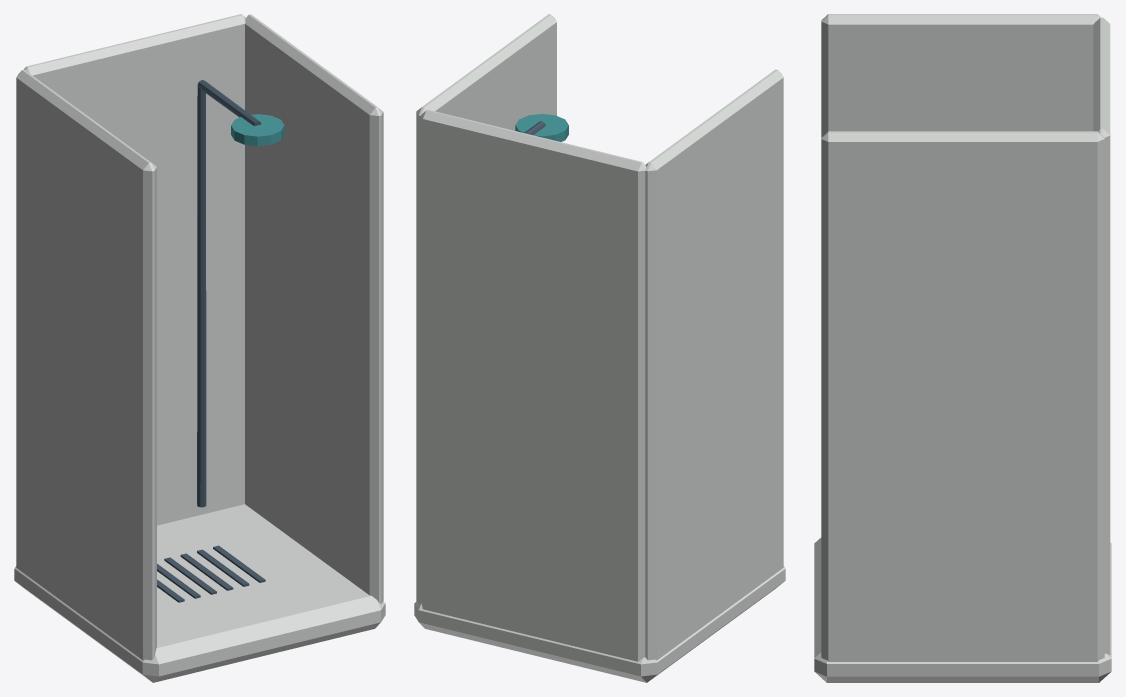
3 renders of one model, left to right at view 1: azimuth 30°, elevation 25°; view 2: azimuth 150°, elevation 25°; view 3: azimuth 270°, elevation 25°, orthographic. The views are drawn at different scales.
Parts seen in each view (by area): view 1: MI-033 Recovery shower cubicle batched; view 2: MI-033 Recovery shower cubicle batched; view 3: MI-033 Recovery shower cubicle batched.
Boxes of the visible parts, x1,y1,x2,y2 form: MI-033 Recovery shower cubicle batched: [14, 14, 385, 682]; MI-033 Recovery shower cubicle batched: [414, 14, 785, 682]; MI-033 Recovery shower cubicle batched: [814, 14, 1111, 682].
Bounding box in the file's own units: 1.05 × 2.15 × 1.05.
